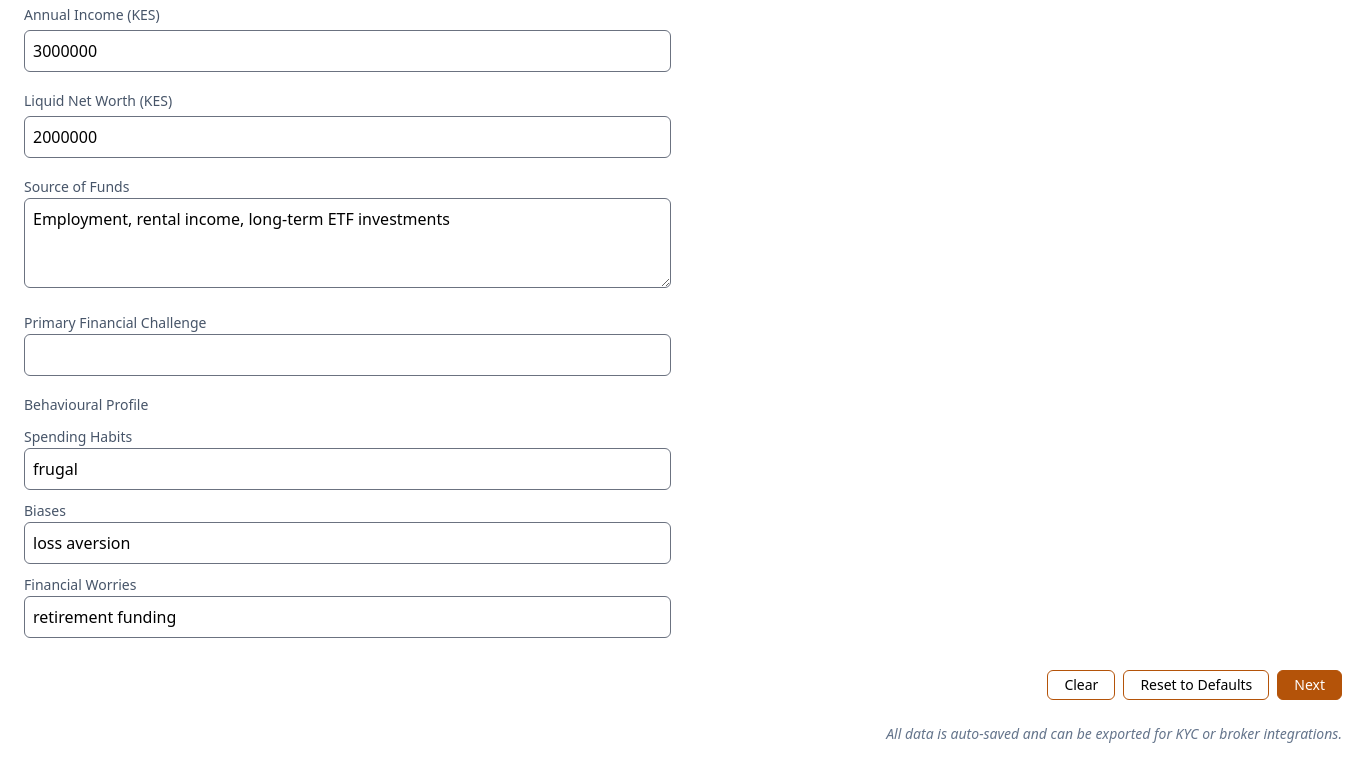
renders risk survey questions
(page scrolled)
Click the button "Next" at point(1310, 685), box x1=1277 y1=670 x2=1342 y2=700
(page scrolled)
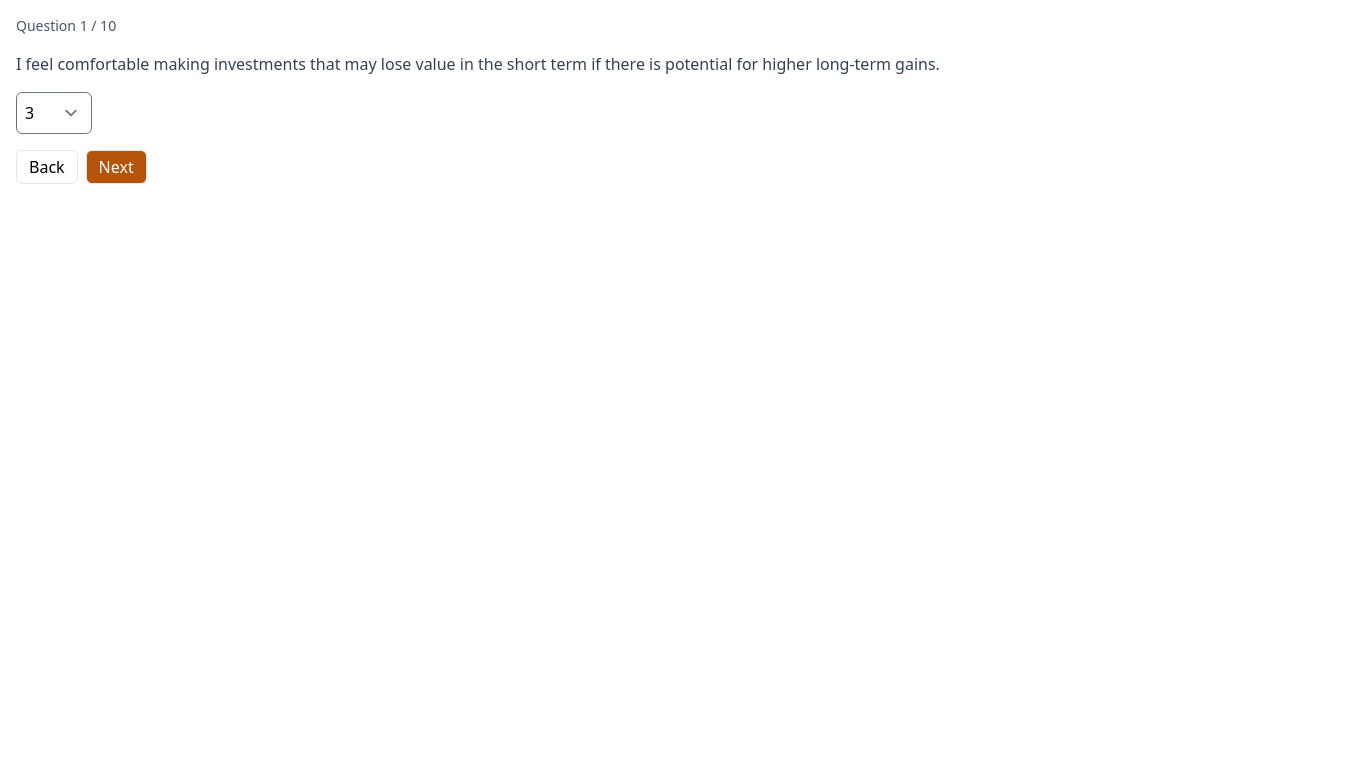
Result: the text "I feel comfortable making investments that may lose value in the short term if there is potential for higher long-term g" is shown at x1=16 y1=53 x2=940 y2=75
